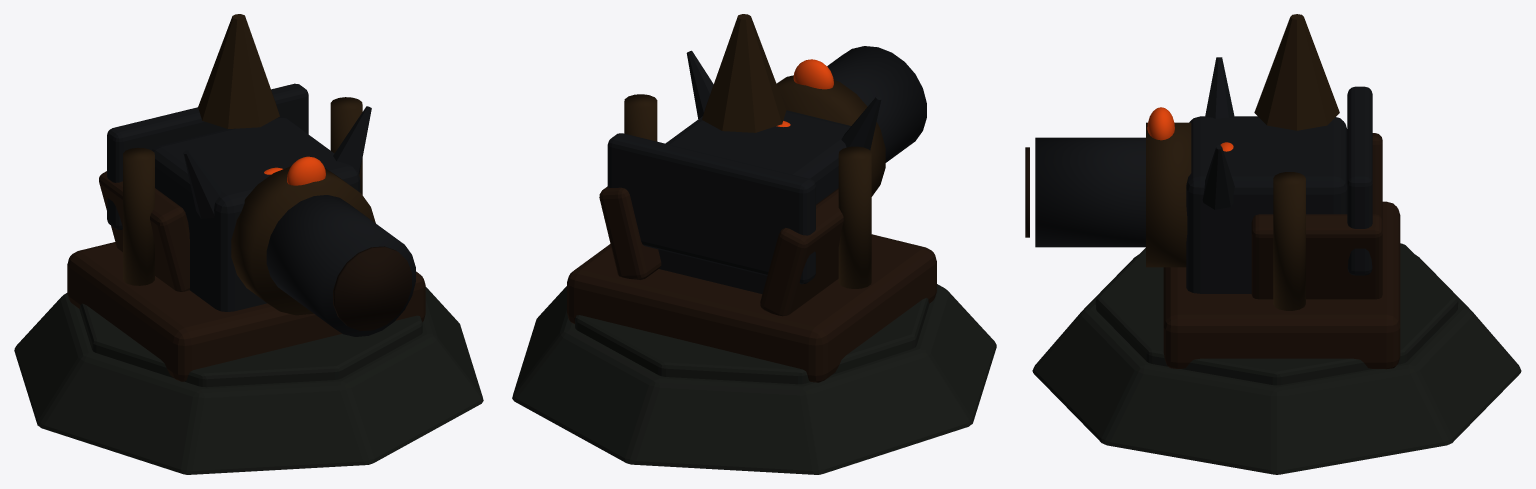
The model's file is TowerChaos3.obj.
The picture shows the model from 3 angles, left to right: view 1: azimuth 30°, elevation 25°; view 2: azimuth 150°, elevation 25°; view 3: azimuth 270°, elevation 25°; orthographic projection. The views are drawn at different scales.
Parts seen in each view (by area): view 1: black_stone_furnace_base_lower_course, oak_fire_cradle, iron_furnace_jacket, iron_blast_barrel, black_stone_furnace_base_upper_course, bronze_blast_collar, apex_fire_chimney, black_fire_mouth, iron_furnace_shield, bronze_pressure_pipe, oak_bellows_arm, iron_heat_fin (+3 smaller); view 2: black_stone_furnace_base_lower_course, oak_fire_cradle, iron_furnace_shield, iron_furnace_jacket, black_stone_furnace_base_upper_course, apex_fire_chimney, iron_blast_barrel, oak_bellows_arm, bronze_pressure_pipe, bronze_blast_collar, oak_bellows_arm.001, bronze_pressure_pipe.001 (+3 smaller); view 3: black_stone_furnace_base_lower_course, oak_fire_cradle, iron_furnace_jacket, black_stone_furnace_base_upper_course, iron_blast_barrel, oak_bellows_arm.001, apex_fire_chimney, bronze_blast_collar, bronze_pressure_pipe.001, iron_furnace_shield, iron_heat_fin.001, iron_heat_fin (+2 smaller).
Part boxes in pixels (x1,y1,x2,y2): black_stone_furnace_base_lower_course: (14,287,483,474); oak_fire_cradle: (67,242,425,381); iron_furnace_jacket: (151,117,360,311); iron_blast_barrel: (266,195,415,336); black_stone_furnace_base_upper_course: (79,303,422,387); bronze_blast_collar: (231,166,375,315); apex_fire_chimney: (198,14,279,128); black_fire_mouth: (333,246,411,330); iron_furnace_shield: (107,83,308,229); bronze_pressure_pipe: (123,147,154,285); oak_bellows_arm: (99,171,189,291); iron_heat_fin: (183,150,222,218); black_stone_furnace_base_lower_course: (512,284,996,474); oak_fire_cradle: (567,234,936,382); iron_furnace_shield: (607,133,815,284); iron_furnace_jacket: (658,110,850,293); black_stone_furnace_base_upper_course: (575,298,929,384); apex_fire_chimney: (702,14,786,132); iron_blast_barrel: (827,46,926,162); oak_bellows_arm: (760,188,843,316); bronze_pressure_pipe: (838,146,871,288); bronze_blast_collar: (776,75,885,196); oak_bellows_arm.001: (599,186,661,279); bronze_pressure_pipe.001: (624,94,657,141); black_stone_furnace_base_lower_course: (1032,254,1521,474); oak_fire_cradle: (1163,201,1400,369); iron_furnace_jacket: (1186,116,1347,293); black_stone_furnace_base_upper_course: (1095,243,1458,385); iron_blast_barrel: (1035,137,1145,247); oak_bellows_arm.001: (1251,214,1382,299); apex_fire_chimney: (1254,14,1339,130); bronze_blast_collar: (1146,122,1191,267); bronze_pressure_pipe.001: (1273,172,1305,310); iron_furnace_shield: (1347,86,1372,275); iron_heat_fin.001: (1202,145,1234,209); iron_heat_fin: (1205,57,1234,118).
Bounding box in the file's own units: 1.94 × 1.56 × 1.97.
